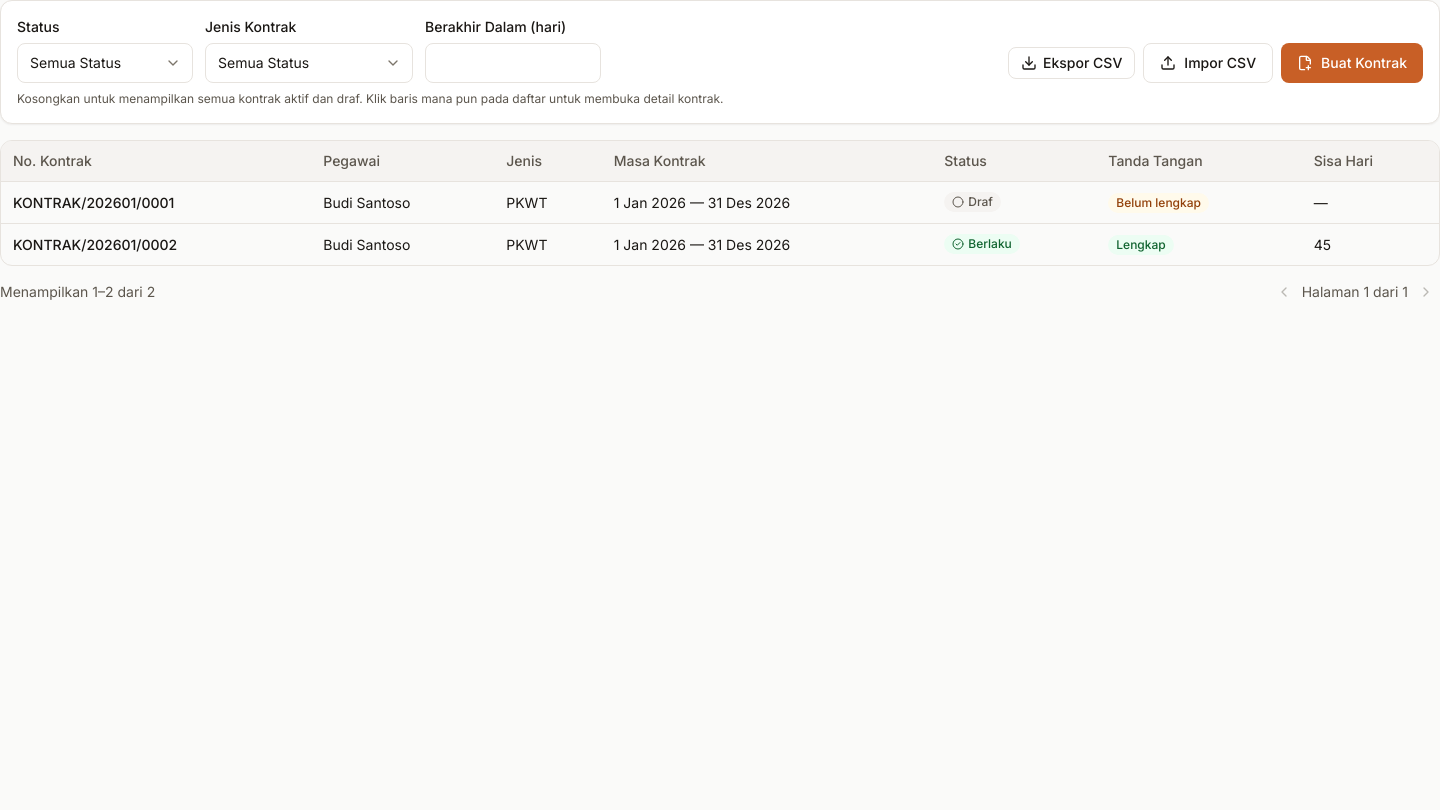
Test: ContractsPanel › offers delete for a draft with no signature, never for an active fully-signed one
Click the text "KONTRAK/202601/0001" at (94, 202), box x1=13 y1=194 x2=174 y2=210
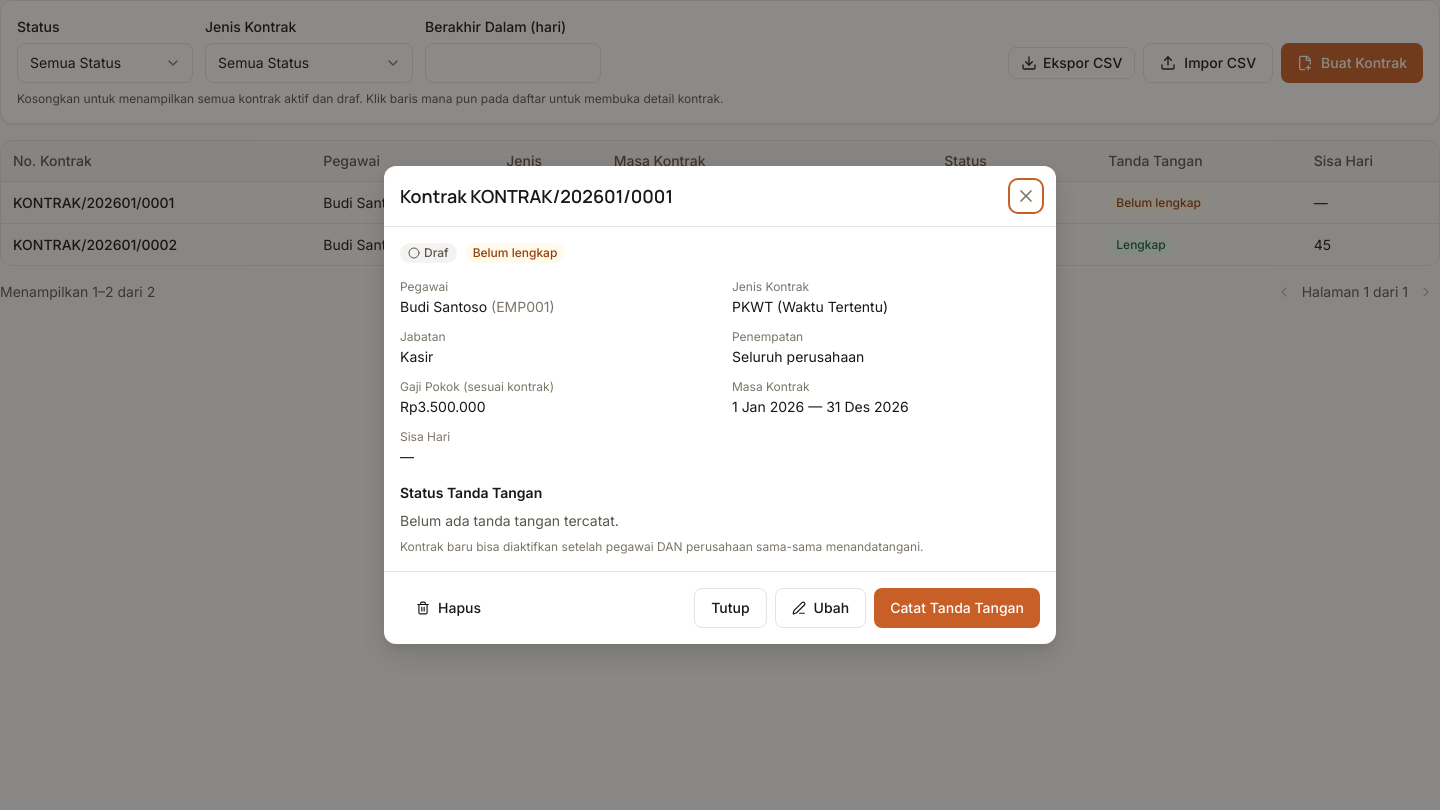
expect the heading "Kontrak KONTRAK/202601/0001" is shown: met, box x1=400 y1=182 x2=673 y2=210
expect the button "Hapus" is shown: met, box x1=400 y1=588 x2=497 y2=628
Click the button named "Tutup" at (1026, 196), box x1=1012 y1=182 x2=1040 y2=210
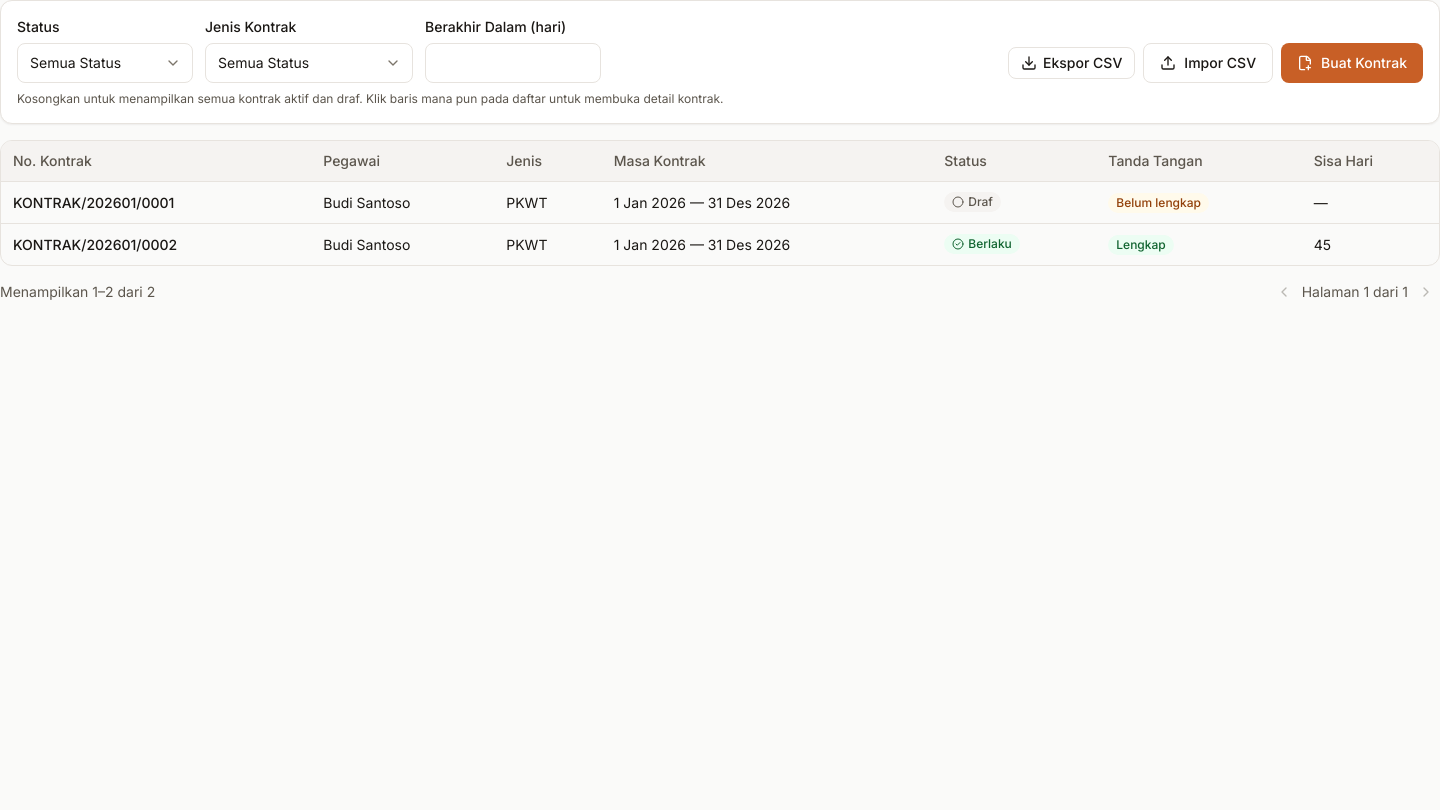
Click the text "KONTRAK/202601/0002" at (95, 244), box x1=13 y1=236 x2=177 y2=252
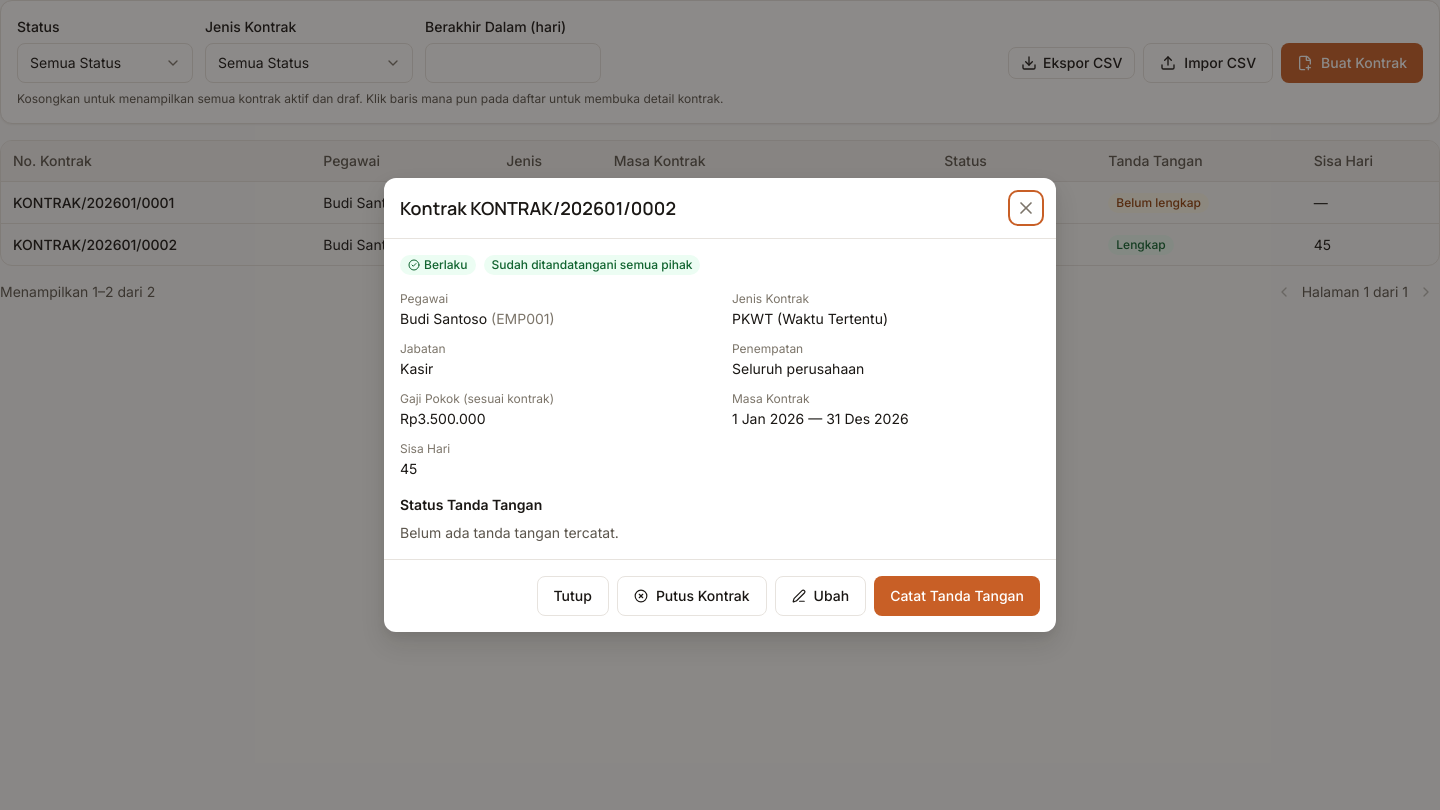
expect the button "Hapus" is not shown: met
expect the heading "Kontrak KONTRAK/202601/0002" is shown: met, box x1=400 y1=194 x2=676 y2=222
